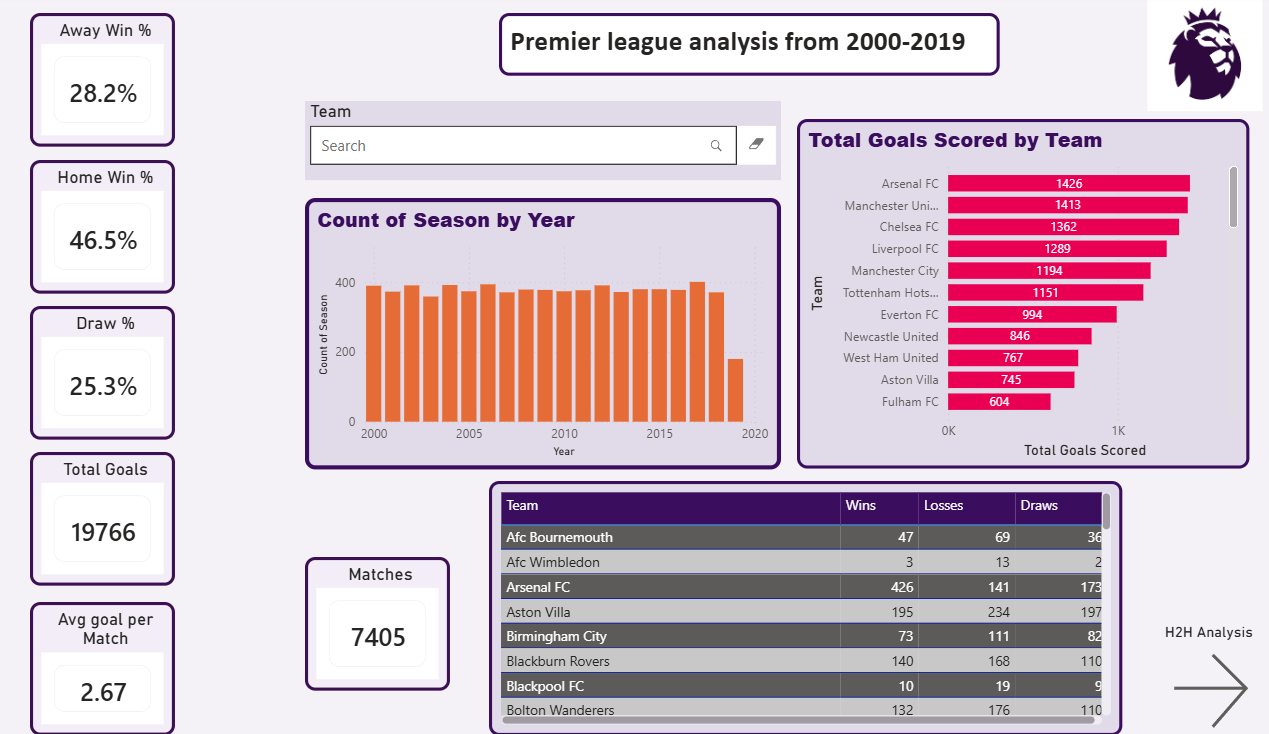

The page's visual inventory and layout, read from the dashboard file:
{"tool":"powerbi","page":{"name":"Dashboard","canvas":[1280,720],"ordinal":0},"visuals":[{"type":"clusteredColumnChart","fields":{"Category":["football_results.date.Variation.Date Hierarchy.Year"],"Y":["CountNonNull(football_results.Season)"]},"box":[337.5,196.5,463,263.6],"z":0},{"type":"barChart","fields":{"Y":["Sum(Total_Goals.Goals)"],"Category":["Teams.Team"]},"box":[816,119.6,439.6,340.4],"z":1000},{"type":"tableEx","fields":{"Values":["Teams.Team","Total_Results.Wins","Total_Results.Losses","Total_Results.Draws"]},"box":[516.5,471.7,615.7,248],"z":2000},{"type":"image","box":[1144.8,0,135.2,111.9],"z":3000},{"type":"textFilter25A4896A83E0487089E2B90C9AE57C8A","fields":{"field":["Teams.Team"]},"box":[337.5,102.1,463,76.8],"z":4000},{"type":"textbox","box":[526.2,16.5,487.3,61.3],"z":5000},{"type":"actionButton","title":"H2H Analysis","box":[1174,610.8,88.5,108.9],"z":6000},{"type":"cardVisual","title":"Matches","fields":{"Data":["football_results.Total Matches"]},"box":[337.5,545.7,141,130.3],"z":7000},{"type":"cardVisual","title":"Total Goals","fields":{"Data":["football_results.Total Goal"]},"box":[70,443.5,141,130.3],"z":8000},{"type":"cardVisual","title":"Home Win %","fields":{"Data":["football_results.Home Win %"]},"box":[70,159.5,141,130.3],"z":9000},{"type":"cardVisual","title":"Avg goal per Match","fields":{"Data":["football_results.Avg Goals per Match"]},"box":[70,589.4,141,130.3],"z":10000},{"type":"cardVisual","title":"Draw %","fields":{"Data":["football_results.Draw %"]},"box":[70,301.5,141,130.3],"z":11000},{"type":"cardVisual","title":"Away Win %","fields":{"Data":["football_results.Away Win %"]},"box":[70,16.5,141,130.3],"z":12000}]}

Visuals, with their boxes in screenshot pixels (x1, y1, x2, y2), scaled from the page's 1280x720 canvas onto the 1269x734 screenshot:
clusteredColumnChart - football_results.date.Variation.Date Hierarchy.Year x CountNonNull(football_results.Season): 335,200,794,469
barChart - Sum(Total_Goals.Goals) x Teams.Team: 809,122,1245,469
tableEx - Teams.Team x Total_Results.Wins: 512,481,1122,733
image: 1135,0,1268,114
textFilter25A4896A83E0487089E2B90C9AE57C8A - Teams.Team: 335,104,794,182
textbox: 522,17,1005,79
"H2H Analysis" actionButton: 1164,623,1252,733
"Matches" cardVisual: 335,556,474,689
"Total Goals" cardVisual: 69,452,209,585
"Home Win %" cardVisual: 69,163,209,295
"Avg goal per Match" cardVisual: 69,601,209,733
"Draw %" cardVisual: 69,307,209,440
"Away Win %" cardVisual: 69,17,209,150
